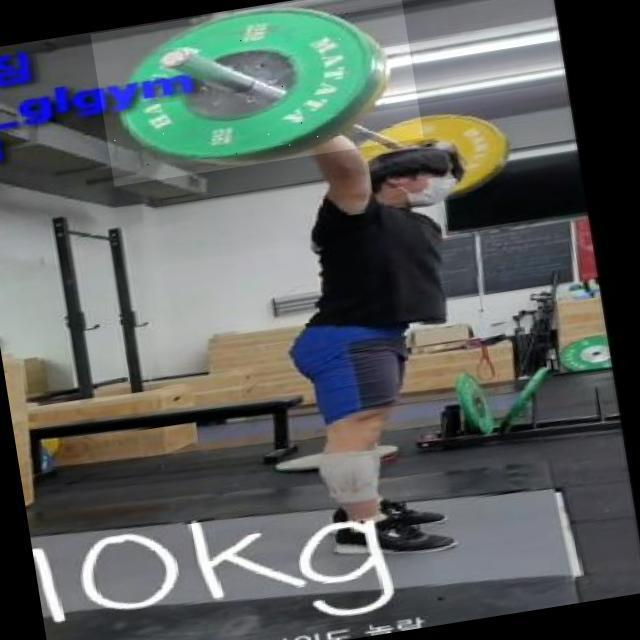barbell: (91, 1, 424, 187)
